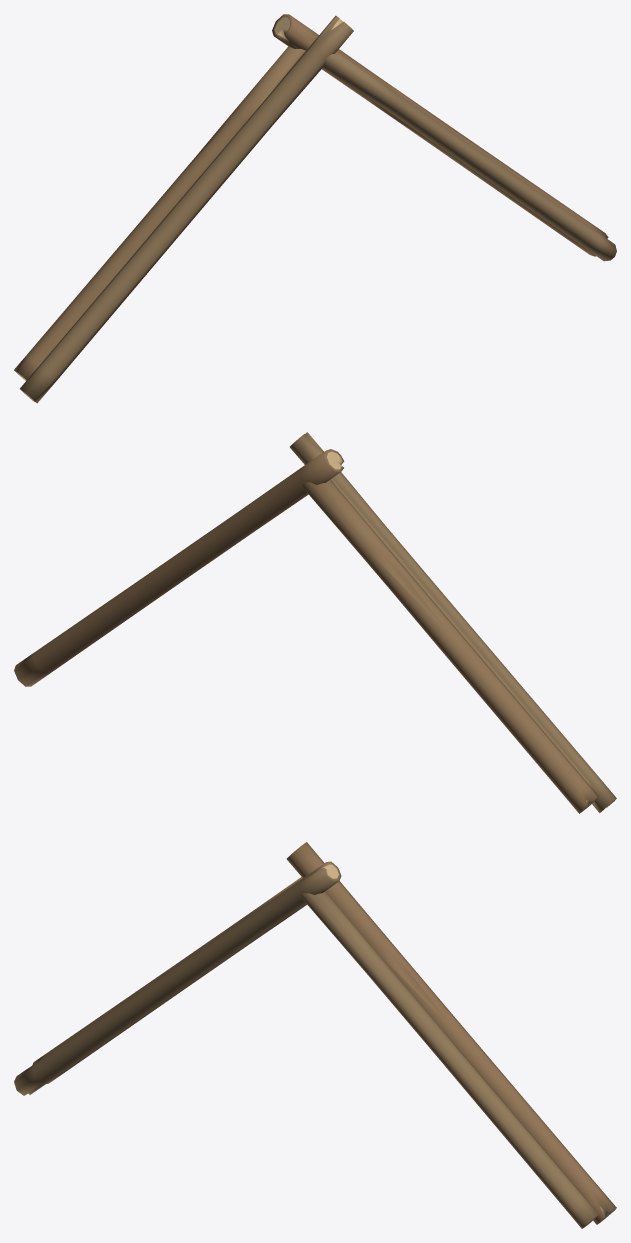
File: rpgpp_ag_roof_01_6x3x3_end_01b.fbx
3 renders of one model, top to bottom at view 1: azimuth 30°, elevation 25°; view 2: azimuth 150°, elevation 25°; view 3: azimuth 330°, elevation 25°, orthographic.
Parts seen in each view (by area): view 1: rpgpp_ag_roof_01_6x3x3_end_01b; view 2: rpgpp_ag_roof_01_6x3x3_end_01b; view 3: rpgpp_ag_roof_01_6x3x3_end_01b.
Part boxes in pixels (left/top/right/bottom): rpgpp_ag_roof_01_6x3x3_end_01b: left=14, top=14, right=616, bottom=403; rpgpp_ag_roof_01_6x3x3_end_01b: left=14, top=432, right=616, bottom=813; rpgpp_ag_roof_01_6x3x3_end_01b: left=14, top=842, right=616, bottom=1228.
Size of the model in its own units: 10.69 by 5.37 by 0.8168.
